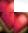heart: (0, 12, 14, 33), (14, 12, 28, 33), (0, 0, 14, 12)
